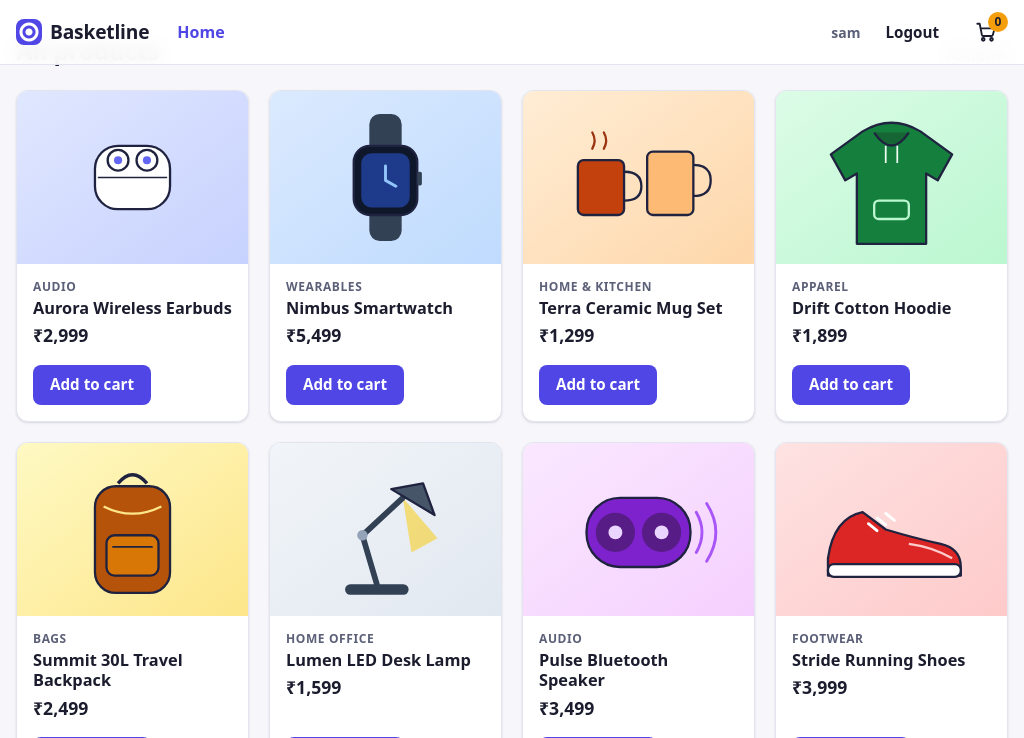
Test: shopping cart flow › removes a whole line with the Remove button, whatever the quantity
(page scrolled)
Click the button with aria-label "Add Nimbus Smartwatch to cart": (345, 385) [286,365,404,405]
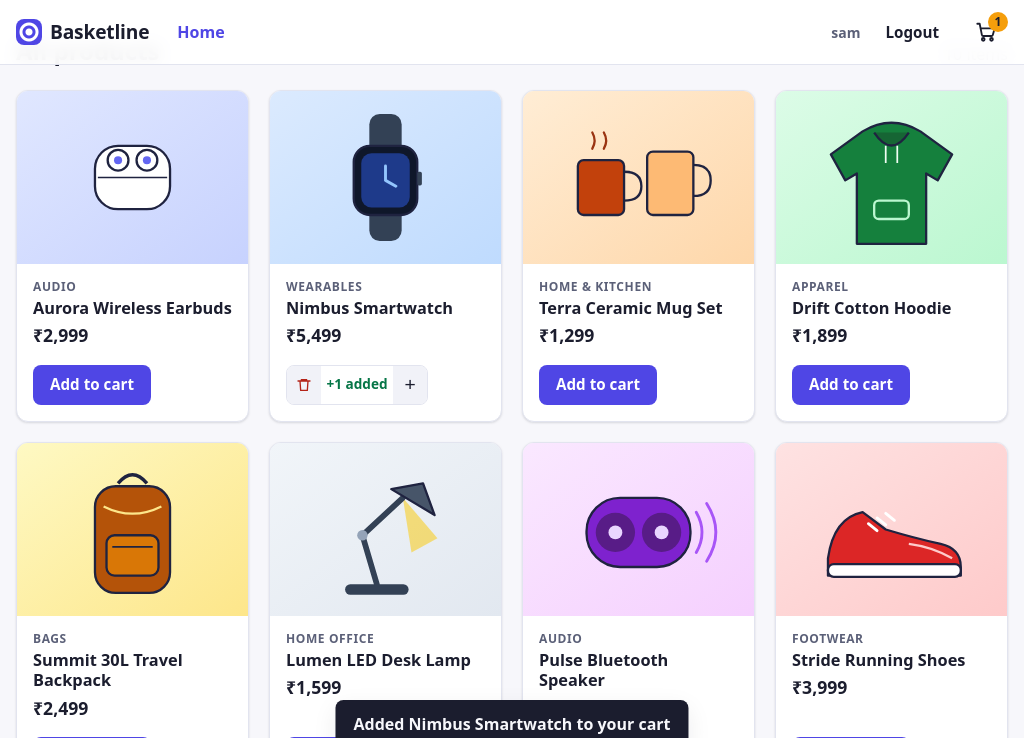
Click the button "+": (410, 385) [393,366,427,404]
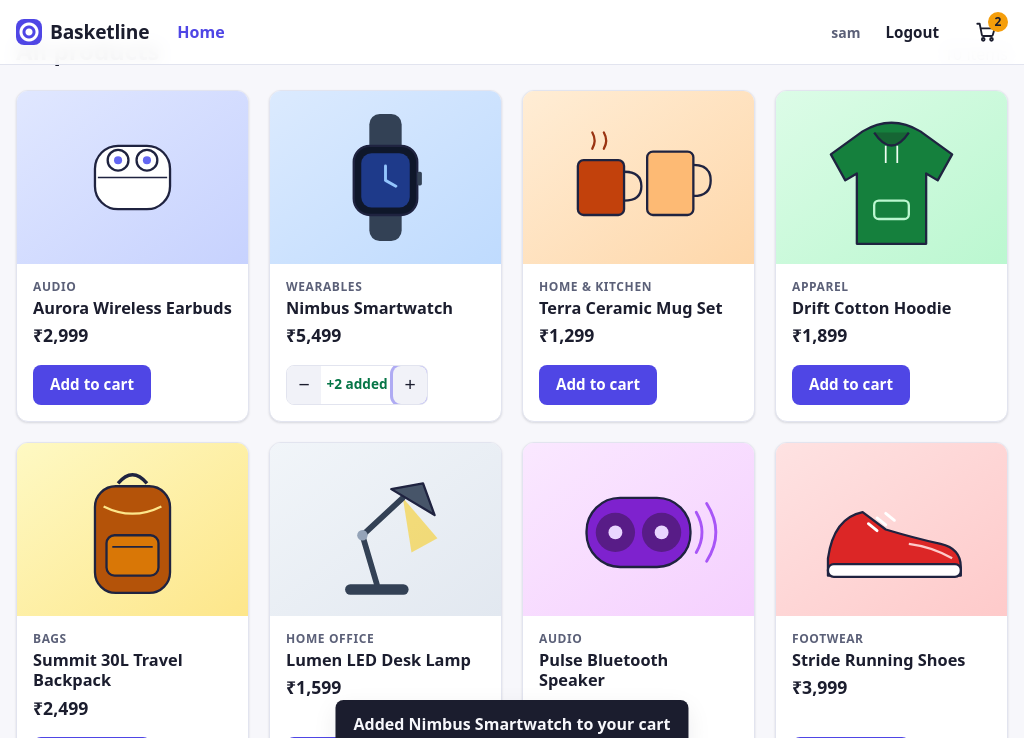
Click the button "+": (410, 385) [393,366,427,404]
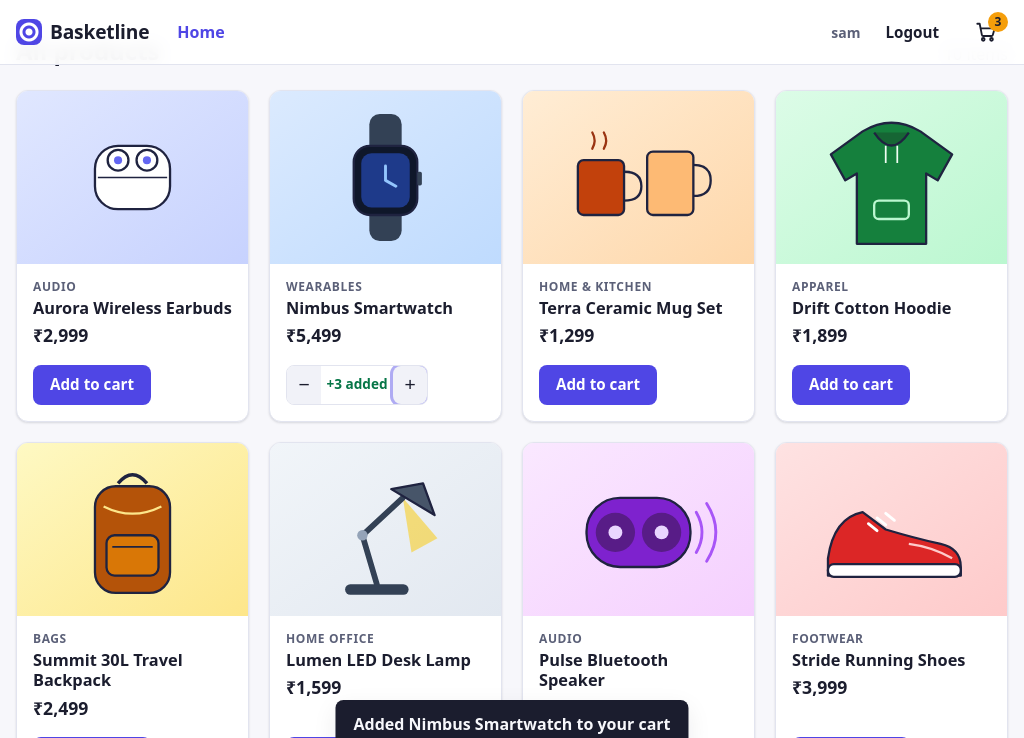
Click the link named "Cart,": (992, 28) [975,12,1008,43]
(page scrolled)
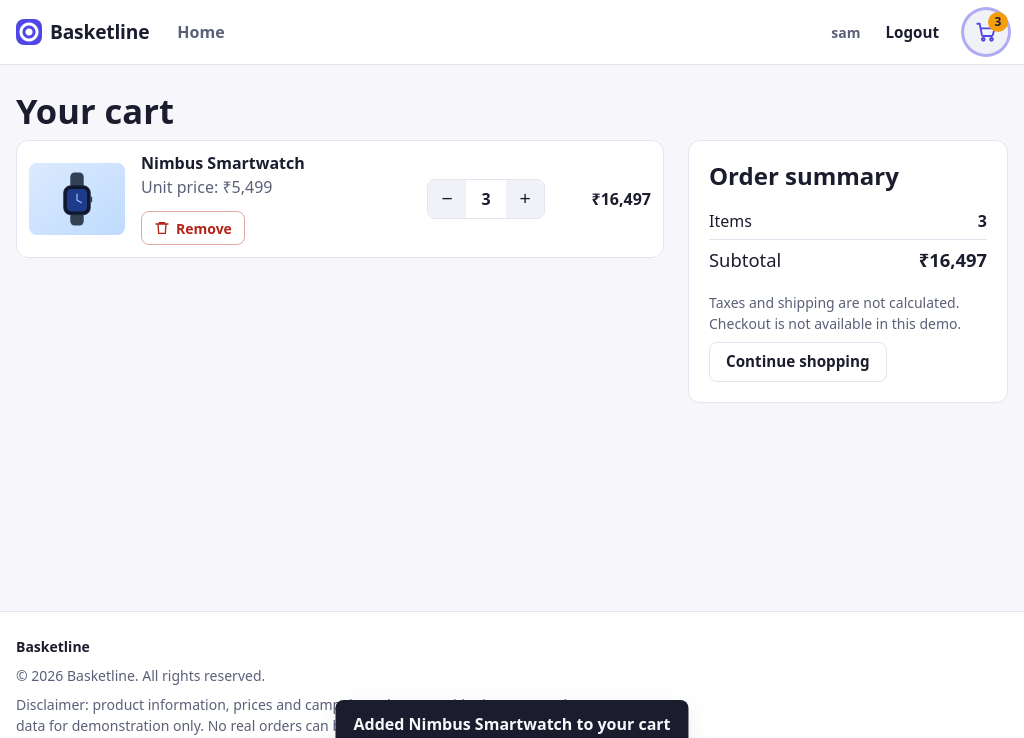
Click the button with aria-label "Remove all Nimbus Smartwatch from cart": (193, 228) [141,211,245,245]
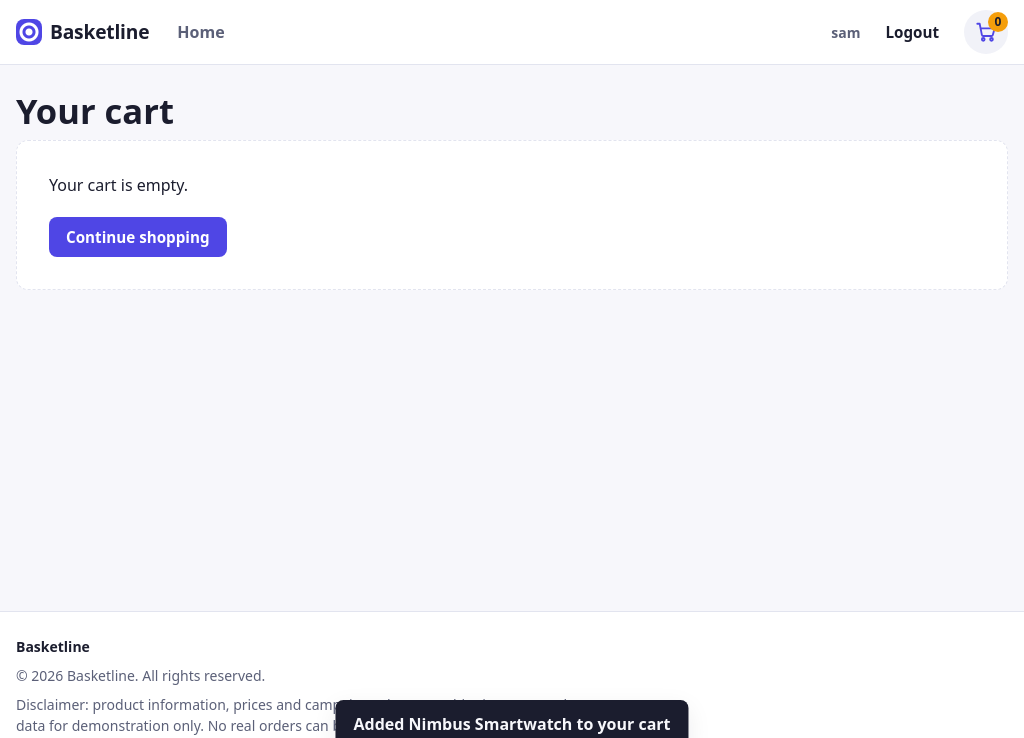
Now the text "Your cart is empty." is shown, box [49,173,188,197]
Now the text with test id "cart-badge" reads "0", box [995,13,1002,30]
